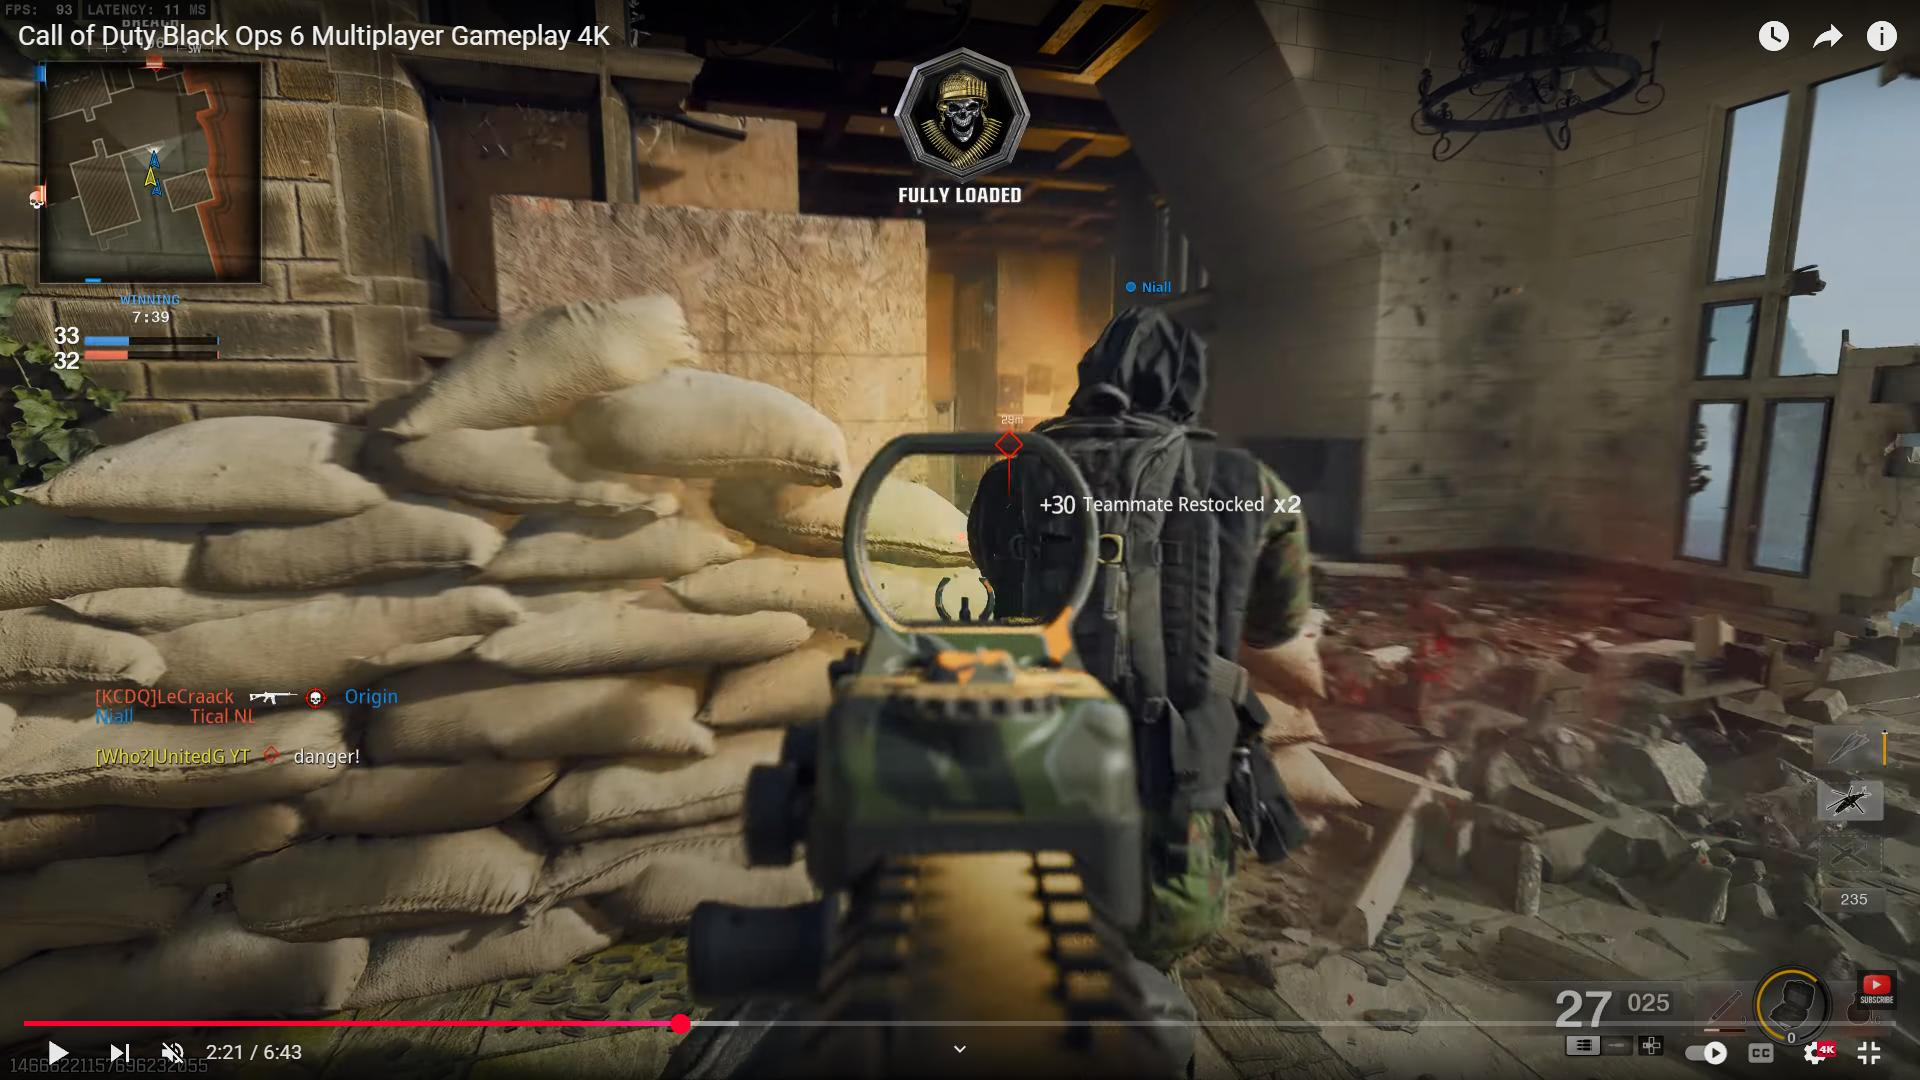Enemy: (1018, 314, 1280, 682)
